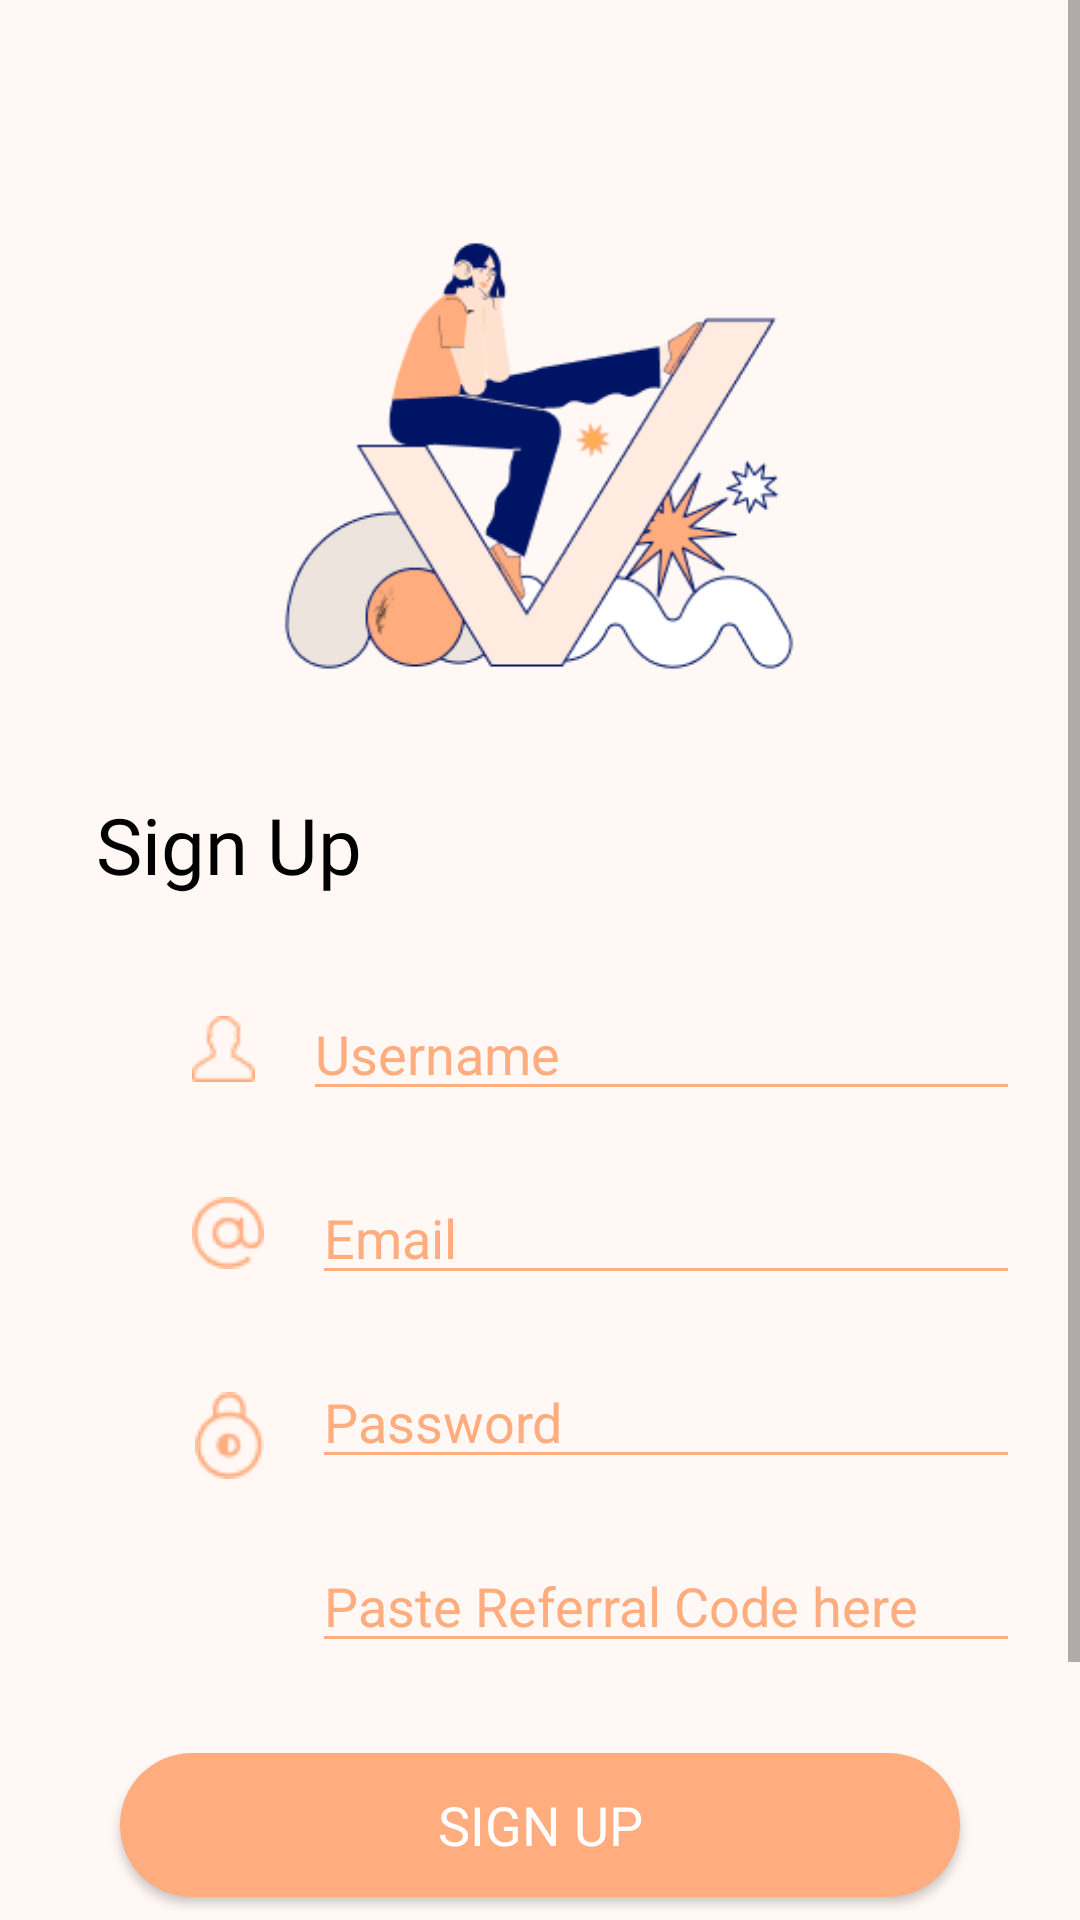

Icons on this 1080 x 1920 Android screen, each with its box as (x1, y1, x2, y2):
at rate: (192, 1197, 264, 1269)
lock: (195, 1392, 264, 1479)
person: (192, 1016, 255, 1082)
